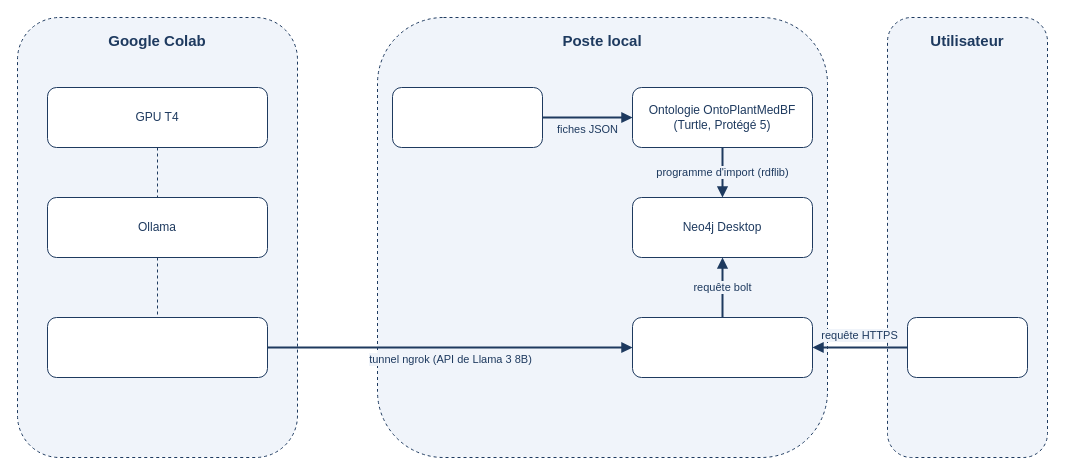
Some shapes in this 1065 by 475 pixel diagram are drawn without their labels. Each missing label, with the centre of its shape:
Application Streamlit: (722,347)
Extraction (phase 3b) OpenWork, Claude Code: (467,117)
Llama 3 8B: (157,347)
Navigateur web: (967,347)
